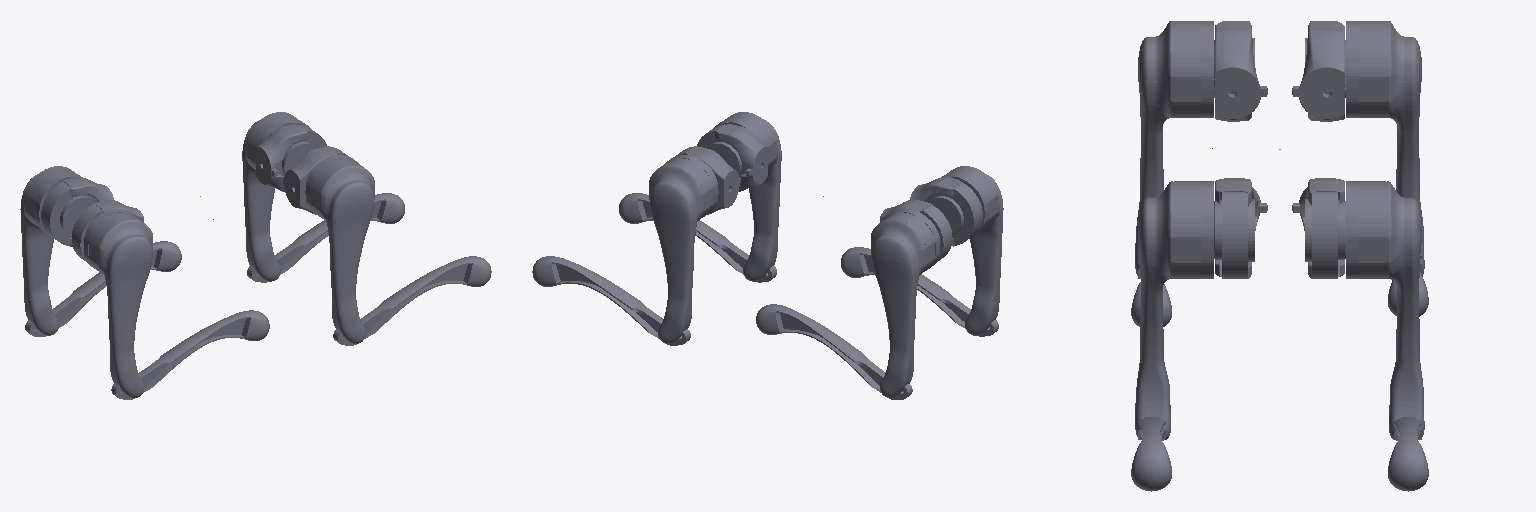
robot.urdf — go1_description:
<?xml version="1.0" ?>
<robot name="go1_description" xmlns:xacro="http://www.ros.org/wiki/xacro">
  <material name="black">
    <color rgba="0.0 0.0 0.0 1.0"/>
  </material>
  <material name="blue">
    <color rgba="0.0 0.0 0.8 1.0"/>
  </material>
  <material name="green">
    <color rgba="0.0 0.8 0.0 1.0"/>
  </material>
  <material name="grey">
    <color rgba="0.2 0.2 0.2 1.0"/>
  </material>
  <material name="silver">
    <color rgba="0.513725490196 0.513725490196 0.57058823529 1.0"/>
    <roughness value="0.1"/>
  </material>
  <material name="orange">
    <color rgba="1.0 0.423529411765 0.0392156862745 1.0"/>
  </material>
  <material name="brown">
    <color rgba="0.870588235294 0.811764705882 0.764705882353 1.0"/>
  </material>
  <material name="red">
    <color rgba="0.8 0.0 0.0 1.0"/>
  </material>
  <material name="white">
    <color rgba="1.0 1.0 1.0 1.0"/>
  </material>


  <link name="base">
    <visual>
      <origin rpy="0 0 0" xyz="0 0 0"/>
      <geometry>
        <box size="0.001 0.001 0.001"/>
      </geometry>
    </visual>
  </link>
  <joint name="floating_base" type="fixed">
    <origin rpy="0 0 0" xyz="0 0 0"/>
    <parent link="base"/>
    <child link="trunk"/>
  </joint>
  <link name="trunk">
    <visual>
      <origin rpy="0 0 0" xyz="0 0 0"/>
      <geometry>
        <mesh filename="../meshes/trunk.stl" scale="1 1 1"/>
      </geometry>
      <material name="silver"/>
    </visual>
    <collision>
      <origin rpy="0 0 0" xyz="0 0 0"/>
      <geometry>
        <box size="0.3762 0.0935 0.114"/>
      </geometry>
    </collision>
    <inertial>
      <origin rpy="0 0 0" xyz="0.011611 0.004437 0.000108"/>
      <mass value="4.8"/>
      <inertia ixx="0.016130741919" ixy="0.000593180607" ixz="7.324662e-06" iyy="0.036507810812" iyz="2.0969537e-05" izz="0.044693872053"/>
    </inertial>
  </link>
  <joint name="imu_joint" type="fixed">
    <parent link="trunk"/>
    <child link="imu_link"/>
    <origin rpy="0 0 0" xyz="-0.01592 -0.06659 -0.00617"/>
  </joint>
  <link name="imu_link">
    <inertial>
      <mass value="0.001"/>
      <origin rpy="0 0 0" xyz="0 0 0"/>
      <inertia ixx="0.0001" ixy="0" ixz="0" iyy="0.0001" iyz="0" izz="0.0001"/>
    </inertial>
    <visual>
      <origin rpy="0 0 0" xyz="0 0 0"/>
      <geometry>
        <box size="0.001 0.001 0.001"/>
      </geometry>
      <material name="red"/>
    </visual>
    <!-- <collision>
      <origin rpy="0 0 0" xyz="0 0 0"/>
      <geometry>
        <box size=".001 .001 .001"/>
      </geometry>
    </collision> -->
  </link>
  <joint name="FR_hip_joint" type="revolute">
    <origin rpy="0 0 0" xyz="0.1881 -0.04675 0"/>
    <parent link="trunk"/>
    <child link="FR_hip"/>
    <axis xyz="1 0 0"/>
    <dynamics damping="0" friction="0"/>
    <limit effort="33.5" lower="-0.802851455917" upper="0.802851455917" velocity="50"/>
  </joint>
  <link name="FR_hip">
    <visual>
      <origin rpy="3.14159265359 0 0" xyz="0 0 0"/>
      <geometry>
        <mesh filename="../meshes/hip.stl" scale="1 1 1"/>
      </geometry>
      <material name="silver"/>
    </visual>
    <collision>
      <origin rpy="1.57079632679 0 0" xyz="0 -0.045 0"/>
      <geometry>
        <cylinder length="0.04" radius="0.046"/>
      </geometry>
    </collision>
    <inertial>
      <origin rpy="0 0 0" xyz="-0.00541 0.00074 6e-06"/>
      <mass value="0.510299"/>
      <inertia ixx="0.00030528937" ixy="7.788013e-06" ixz="2.2016e-07" iyy="0.000590894859" iyz="1.7175e-08" izz="0.000396594572"/>
    </inertial>
  </link>
  <joint name="FR_hip_fixed" type="fixed">
    <origin rpy="0 0 0" xyz="0 -0.08 0"/>
    <parent link="FR_hip"/>
    <child link="FR_thigh_shoulder"/>
  </joint>
  <!-- this link is only for collision -->
  <link name="FR_thigh_shoulder">
    <!-- <collision>
      <origin rpy="1.57079632679 0 0" xyz="0 0 0"/>
      <geometry>
        <cylinder length="0.032" radius="0.041"/>
      </geometry>
    </collision> -->
  </link>
  <joint name="FR_thigh_joint" type="revolute">
    <origin rpy="0 0 0" xyz="0 -0.08 0"/>
    <parent link="FR_hip"/>
    <child link="FR_thigh"/>
    <axis xyz="0 1 0"/>
    <dynamics damping="0" friction="0"/>
    <limit effort="33.5" lower="-1.0471975512" upper="4.18879020479" velocity="28"/>
  </joint>
  <link name="FR_thigh">
    <visual>
      <origin rpy="0 0 0" xyz="0 0 0"/>
      <geometry>
        <mesh filename="../meshes/thigh_mirror.stl" scale="1 1 1"/>
      </geometry>
      <material name="silver"/>
    </visual>
    <collision>
      <origin rpy="0 1.57079632679 0" xyz="0 0 -0.1065"/>
      <geometry>
        <box size="0.213 0.0245 0.034"/>
      </geometry>
    </collision>
    <inertial>
      <origin rpy="0 0 0" xyz="-0.003468 0.018947 -0.032736"/>
      <mass value="0.898919"/>
      <inertia ixx="0.005395867678" ixy="-1.02809e-07" ixz="0.000337529085" iyy="0.005142451046" iyz="5.816563e-06" izz="0.00102478732"/>
    </inertial>
  </link>
  <joint name="FR_calf_joint" type="revolute">
    <origin rpy="0 0 0" xyz="0 0 -0.213"/>
    <parent link="FR_thigh"/>
    <child link="FR_calf"/>
    <axis xyz="0 1 0"/>
    <dynamics damping="0" friction="0"/>
    <limit effort="33.5" lower="-2.69653369433" upper="-0.916297857297" velocity="28"/>
  </joint>
  <link name="FR_calf">
    <visual>
      <origin rpy="0 0 0" xyz="0 0 0"/>
      <geometry>
        <mesh filename="../meshes/calf.stl" scale="1 1 1"/>
      </geometry>
      <material name="silver"/>
    </visual>
    <collision>
      <origin rpy="0 1.57079632679 0" xyz="0 0 -0.1065"/>
      <geometry>
        <box size="0.213 0.016 0.016"/>
      </geometry>
    </collision>
    <inertial>
      <origin rpy="0 0 0" xyz="0.006286 0.001307 -0.122269"/>
      <mass value="0.158015"/>
      <inertia ixx="0.003607648222" ixy="1.494971e-06" ixz="-0.000132778525" iyy="0.003626771492" iyz="-2.8638535e-05" izz="3.5148003e-05"/>
    </inertial>
  </link>
  <joint name="FR_foot_fixed" type="fixed" dont_collapse="true">
    <origin rpy="0 0 0" xyz="0 0 -0.213"/>
    <parent link="FR_calf"/>
    <child link="FR_foot"/>
  </joint>
  <link name="FR_foot">
    <visual>
      <origin rpy="0 0 0" xyz="0 0 0"/>
      <geometry>
        <sphere radius="0.01"/>
      </geometry>
      <material name="silver"/>
    </visual>
    <collision>
      <origin rpy="0 0 0" xyz="0 0 0"/>
      <geometry>
        <sphere radius="0.02"/>
      </geometry>
    </collision>
    <inertial>
      <mass value="0.06"/>
      <inertia ixx="9.6e-06" ixy="0.0" ixz="0.0" iyy="9.6e-06" iyz="0.0" izz="9.6e-06"/>
    </inertial>
  </link>

  <joint name="FL_hip_joint" type="revolute">
    <origin rpy="0 0 0" xyz="0.1881 0.04675 0"/>
    <parent link="trunk"/>
    <child link="FL_hip"/>
    <axis xyz="1 0 0"/>
    <dynamics damping="0" friction="0"/>
    <limit effort="33.5" lower="-0.802851455917" upper="0.802851455917" velocity="50"/>
  </joint>
  <link name="FL_hip">
    <visual>
      <origin rpy="0 0 0" xyz="0 0 0"/>
      <geometry>
        <mesh filename="../meshes/hip.stl" scale="1 1 1"/>
      </geometry>
      <material name="silver"/>
    </visual>
    <collision>
      <origin rpy="1.57079632679 0 0" xyz="0 0.045 0"/>
      <geometry>
        <cylinder length="0.04" radius="0.046"/>
      </geometry>
    </collision>
    <inertial>
      <origin rpy="0 0 0" xyz="-0.00541 -0.00074 6e-06"/>
      <mass value="0.510299"/>
      <inertia ixx="0.00030528937" ixy="-7.788013e-06" ixz="2.2016e-07" iyy="0.000590894859" iyz="-1.7175e-08" izz="0.000396594572"/>
    </inertial>
  </link>
  <joint name="FL_hip_fixed" type="fixed">
    <origin rpy="0 0 0" xyz="0 0.08 0"/>
    <parent link="FL_hip"/>
    <child link="FL_thigh_shoulder"/>
  </joint>
  <!-- this link is only for collision -->
  <link name="FL_thigh_shoulder">
    <!-- <collision>
      <origin rpy="1.57079632679 0 0" xyz="0 0 0"/>
      <geometry>
        <cylinder length="0.032" radius="0.041"/>
      </geometry>
    </collision>  -->
  </link>
  <joint name="FL_thigh_joint" type="revolute">
    <origin rpy="0 0 0" xyz="0 0.08 0"/>
    <parent link="FL_hip"/>
    <child link="FL_thigh"/>
    <axis xyz="0 1 0"/>
    <dynamics damping="0" friction="0"/>
    <limit effort="33.5" lower="-1.0471975512" upper="4.18879020479" velocity="28"/>
  </joint>
  <link name="FL_thigh">
    <visual>
      <origin rpy="0 0 0" xyz="0 0 0"/>
      <geometry>
        <mesh filename="../meshes/thigh.stl" scale="1 1 1"/>
      </geometry>
      <material name="silver"/>
    </visual>
    <collision>
      <origin rpy="0 1.57079632679 0" xyz="0 0 -0.1065"/>
      <geometry>
        <box size="0.213 0.0245 0.034"/>
      </geometry>
    </collision>
    <inertial>
      <origin rpy="0 0 0" xyz="-0.003468 -0.018947 -0.032736"/>
      <mass value="0.898919"/>
      <inertia ixx="0.005395867678" ixy="1.02809e-07" ixz="0.000337529085" iyy="0.005142451046" iyz="-5.816563e-06" izz="0.00102478732"/>
    </inertial>
  </link>
  <joint name="FL_calf_joint" type="revolute">
    <origin rpy="0 0 0" xyz="0 0 -0.213"/>
    <parent link="FL_thigh"/>
    <child link="FL_calf"/>
    <axis xyz="0 1 0"/>
    <dynamics damping="0" friction="0"/>
    <limit effort="33.5" lower="-2.69653369433" upper="-0.916297857297" velocity="28"/>
  </joint>
  <link name="FL_calf">
    <visual>
      <origin rpy="0 0 0" xyz="0 0 0"/>
      <geometry>
        <mesh filename="../meshes/calf.stl" scale="1 1 1"/>
      </geometry>
      <material name="silver"/>
    </visual>
    <collision>
      <origin rpy="0 1.57079632679 0" xyz="0 0 -0.1065"/>
      <geometry>
        <box size="0.213 0.016 0.016"/>
      </geometry>
    </collision>
    <inertial>
      <origin rpy="0 0 0" xyz="0.006286 0.001307 -0.122269"/>
      <mass value="0.158015"/>
      <inertia ixx="0.003607648222" ixy="1.494971e-06" ixz="-0.000132778525" iyy="0.003626771492" iyz="-2.8638535e-05" izz="3.5148003e-05"/>
    </inertial>
  </link>
  <joint name="FL_foot_fixed" type="fixed" dont_collapse="true">
    <origin rpy="0 0 0" xyz="0 0 -0.213"/>
    <parent link="FL_calf"/>
    <child link="FL_foot"/>
  </joint>
  <link name="FL_foot">
    <visual>
      <origin rpy="0 0 0" xyz="0 0 0"/>
      <geometry>
        <sphere radius="0.01"/>
      </geometry>
      <material name="silver"/>
    </visual>
    <collision>
      <origin rpy="0 0 0" xyz="0 0 0"/>
      <geometry>
        <sphere radius="0.02"/>
      </geometry>
    </collision>
    <inertial>
      <mass value="0.06"/>
      <inertia ixx="9.6e-06" ixy="0.0" ixz="0.0" iyy="9.6e-06" iyz="0.0" izz="9.6e-06"/>
    </inertial>
  </link>

  <joint name="RR_hip_joint" type="revolute">
    <origin rpy="0 0 0" xyz="-0.1881 -0.04675 0"/>
    <parent link="trunk"/>
    <child link="RR_hip"/>
    <axis xyz="1 0 0"/>
    <dynamics damping="0" friction="0"/>
    <limit effort="33.5" lower="-0.802851455917" upper="0.802851455917" velocity="50"/>
  </joint>
  <link name="RR_hip">
    <visual>
      <origin rpy="3.14159265359 3.14159265359 0" xyz="0 0 0"/>
      <geometry>
        <mesh filename="../meshes/hip.stl" scale="1 1 1"/>
      </geometry>
      <material name="silver"/>
    </visual>
    <collision>
      <origin rpy="1.57079632679 0 0" xyz="0 -0.045 0"/>
      <geometry>
        <cylinder length="0.04" radius="0.046"/>
      </geometry>
    </collision>
    <inertial>
      <origin rpy="0 0 0" xyz="0.00541 0.00074 6e-06"/>
      <mass value="0.510299"/>
      <inertia ixx="0.00030528937" ixy="-7.788013e-06" ixz="-2.2016e-07" iyy="0.000590894859" iyz="1.7175e-08" izz="0.000396594572"/>
    </inertial>
  </link>
  <joint name="RR_hip_fixed" type="fixed">
    <origin rpy="0 0 0" xyz="0 -0.08 0"/>
    <parent link="RR_hip"/>
    <child link="RR_thigh_shoulder"/>
  </joint>
  <!-- this link is only for collision -->
  <link name="RR_thigh_shoulder">
    <!-- <collision>
      <origin rpy="1.57079632679 0 0" xyz="0 0 0"/>
      <geometry>
        <cylinder length="0.032" radius="0.041"/>
      </geometry>
    </collision> -->
  </link>
  <joint name="RR_thigh_joint" type="revolute">
    <origin rpy="0 0 0" xyz="0 -0.08 0"/>
    <parent link="RR_hip"/>
    <child link="RR_thigh"/>
    <axis xyz="0 1 0"/>
    <dynamics damping="0" friction="0"/>
    <limit effort="33.5" lower="-1.0471975512" upper="4.18879020479" velocity="28"/>
  </joint>
  <link name="RR_thigh">
    <visual>
      <origin rpy="0 0 0" xyz="0 0 0"/>
      <geometry>
        <mesh filename="../meshes/thigh_mirror.stl" scale="1 1 1"/>
      </geometry>
      <material name="silver"/>
    </visual>
    <collision>
      <origin rpy="0 1.57079632679 0" xyz="0 0 -0.1065"/>
      <geometry>
        <box size="0.213 0.0245 0.034"/>
      </geometry>
    </collision>
    <inertial>
      <origin rpy="0 0 0" xyz="-0.003468 0.018947 -0.032736"/>
      <mass value="0.898919"/>
      <inertia ixx="0.005395867678" ixy="-1.02809e-07" ixz="0.000337529085" iyy="0.005142451046" iyz="5.816563e-06" izz="0.00102478732"/>
    </inertial>
  </link>
  <joint name="RR_calf_joint" type="revolute">
    <origin rpy="0 0 0" xyz="0 0 -0.213"/>
    <parent link="RR_thigh"/>
    <child link="RR_calf"/>
    <axis xyz="0 1 0"/>
    <dynamics damping="0" friction="0"/>
    <limit effort="33.5" lower="-2.69653369433" upper="-0.916297857297" velocity="28"/>
  </joint>
  <link name="RR_calf">
    <visual>
      <origin rpy="0 0 0" xyz="0 0 0"/>
      <geometry>
        <mesh filename="../meshes/calf.stl" scale="1 1 1"/>
      </geometry>
      <material name="silver"/>
    </visual>
    <collision>
      <origin rpy="0 1.57079632679 0" xyz="0 0 -0.1065"/>
      <geometry>
        <box size="0.213 0.016 0.016"/>
      </geometry>
    </collision>
    <inertial>
      <origin rpy="0 0 0" xyz="0.006286 0.001307 -0.122269"/>
      <mass value="0.158015"/>
      <inertia ixx="0.003607648222" ixy="1.494971e-06" ixz="-0.000132778525" iyy="0.003626771492" iyz="-2.8638535e-05" izz="3.5148003e-05"/>
    </inertial>
  </link>
  <joint name="RR_foot_fixed" type="fixed" dont_collapse="true">
    <origin rpy="0 0 0" xyz="0 0 -0.213"/>
    <parent link="RR_calf"/>
    <child link="RR_foot"/>
  </joint>
  <link name="RR_foot">
    <visual>
      <origin rpy="0 0 0" xyz="0 0 0"/>
      <geometry>
        <sphere radius="0.01"/>
      </geometry>
      <material name="silver"/>
    </visual>
    <collision>
      <origin rpy="0 0 0" xyz="0 0 0"/>
      <geometry>
        <sphere radius="0.02"/>
      </geometry>
    </collision>
    <inertial>
      <mass value="0.06"/>
      <inertia ixx="9.6e-06" ixy="0.0" ixz="0.0" iyy="9.6e-06" iyz="0.0" izz="9.6e-06"/>
    </inertial>
  </link>

  <joint name="RL_hip_joint" type="revolute">
    <origin rpy="0 0 0" xyz="-0.1881 0.04675 0"/>
    <parent link="trunk"/>
    <child link="RL_hip"/>
    <axis xyz="1 0 0"/>
    <dynamics damping="0" friction="0"/>
    <limit effort="33.5" lower="-0.802851455917" upper="0.802851455917" velocity="50"/>
  </joint>
  <link name="RL_hip">
    <visual>
      <origin rpy="0 3.14159265359 0" xyz="0 0 0"/>
      <geometry>
        <mesh filename="../meshes/hip.stl" scale="1 1 1"/>
      </geometry>
      <material name="silver"/>
    </visual>
    <collision>
      <origin rpy="1.57079632679 0 0" xyz="0 0.045 0"/>
      <geometry>
        <cylinder length="0.04" radius="0.046"/>
      </geometry>
    </collision>
    <inertial>
      <origin rpy="0 0 0" xyz="0.00541 -0.00074 6e-06"/>
      <mass value="0.510299"/>
      <inertia ixx="0.00030528937" ixy="7.788013e-06" ixz="-2.2016e-07" iyy="0.000590894859" iyz="-1.7175e-08" izz="0.000396594572"/>
    </inertial>
  </link>
  <joint name="RL_hip_fixed" type="fixed">
    <origin rpy="0 0 0" xyz="0 0.08 0"/>
    <parent link="RL_hip"/>
    <child link="RL_thigh_shoulder"/>
  </joint>
  <!-- this link is only for collision -->
  <link name="RL_thigh_shoulder">
    <!-- <collision>
      <origin rpy="1.57079632679 0 0" xyz="0 0 0"/>
      <geometry>
        <cylinder length="0.032" radius="0.041"/>
      </geometry>
    </collision> -->
  </link>
  <joint name="RL_thigh_joint" type="revolute">
    <origin rpy="0 0 0" xyz="0 0.08 0"/>
    <parent link="RL_hip"/>
    <child link="RL_thigh"/>
    <axis xyz="0 1 0"/>
    <dynamics damping="0" friction="0"/>
    <limit effort="33.5" lower="-1.0471975512" upper="4.18879020479" velocity="28"/>
  </joint>
  <link name="RL_thigh">
    <visual>
      <origin rpy="0 0 0" xyz="0 0 0"/>
      <geometry>
        <mesh filename="../meshes/thigh.stl" scale="1 1 1"/>
      </geometry>
      <material name="silver"/>
    </visual>
    <collision>
      <origin rpy="0 1.57079632679 0" xyz="0 0 -0.1065"/>
      <geometry>
        <box size="0.213 0.0245 0.034"/>
      </geometry>
    </collision>
    <inertial>
      <origin rpy="0 0 0" xyz="-0.003468 -0.018947 -0.032736"/>
      <mass value="0.898919"/>
      <inertia ixx="0.005395867678" ixy="1.02809e-07" ixz="0.000337529085" iyy="0.005142451046" iyz="-5.816563e-06" izz="0.00102478732"/>
    </inertial>
  </link>
  <joint name="RL_calf_joint" type="revolute">
    <origin rpy="0 0 0" xyz="0 0 -0.213"/>
    <parent link="RL_thigh"/>
    <child link="RL_calf"/>
    <axis xyz="0 1 0"/>
    <dynamics damping="0" friction="0"/>
    <limit effort="33.5" lower="-2.8" upper="-0.916297857297" velocity="28"/>
  </joint>
  <link name="RL_calf">
    <visual>
      <origin rpy="0 0 0" xyz="0 0 0"/>
      <geometry>
        <mesh filename="../meshes/calf.stl" scale="1 1 1"/>
      </geometry>
      <material name="silver"/>
    </visual>
    <collision>
      <origin rpy="0 1.57079632679 0" xyz="0 0 -0.1065"/>
      <geometry>
        <box size="0.213 0.016 0.016"/>
      </geometry>
    </collision>
    <inertial>
      <origin rpy="0 0 0" xyz="0.006286 0.001307 -0.122269"/>
      <mass value="0.158015"/>
      <inertia ixx="0.003607648222" ixy="1.494971e-06" ixz="-0.000132778525" iyy="0.003626771492" iyz="-2.8638535e-05" izz="3.5148003e-05"/>
    </inertial>
  </link>
  <joint name="RL_foot_fixed" type="fixed" dont_collapse="true">
    <origin rpy="0 0 0" xyz="0 0 -0.213"/>
    <parent link="RL_calf"/>
    <child link="RL_foot"/>
  </joint>
  <link name="RL_foot">
    <visual>
      <origin rpy="0 0 0" xyz="0 0 0"/>
      <geometry>
        <sphere radius="0.01"/>
      </geometry>
      <material name="silver"/>
    </visual>
    <collision>
      <origin rpy="0 0 0" xyz="0 0 0"/>
      <geometry>
        <sphere radius="0.02"/>
      </geometry>
    </collision>
    <inertial>
      <mass value="0.06"/>
      <inertia ixx="9.6e-06" ixy="0.0" ixz="0.0" iyy="9.6e-06" iyz="0.0" izz="9.6e-06"/>
    </inertial>
  </link>
 </robot>

--- Render facts (derived) ---
Views: 3 orthographic renders of the robot side by side, from view 1: azimuth 30°, elevation 25°; view 2: azimuth 150°, elevation 25°; view 3: azimuth 270°, elevation 25°.
Robot: go1_description — 23 links, 22 joints (12 revolute, 10 fixed); root link base; default pose: joints at zero except 4 at the middle of their limits (FR_calf_joint = -1.81, FL_calf_joint = -1.81, RR_calf_joint = -1.81, RL_calf_joint = -1.86).
Links seen in each view (by area): view 1: FR_thigh, RR_thigh, RL_thigh, FL_thigh, FR_calf, RR_calf, RL_hip, FL_hip, FL_calf, RL_calf, FR_hip, RR_hip; view 2: FL_thigh, RL_thigh, RR_thigh, FR_thigh, RL_calf, FL_calf, FR_hip, RR_hip, RR_calf, FR_calf, FL_hip, RL_hip; view 3: FR_thigh, FL_thigh, RR_thigh, RL_thigh, FR_hip, FL_hip, RR_hip, RL_hip, FR_calf, FL_calf, RR_calf, RL_calf.
Link boxes in pixels (box(x1,y1,x2,y2)): FR_thigh: box(305, 155, 374, 343); RR_thigh: box(84, 209, 152, 397); RL_thigh: box(20, 166, 82, 335); FL_thigh: box(242, 112, 309, 281); FR_calf: box(333, 256, 491, 345); RR_calf: box(111, 310, 269, 399); RL_hip: box(41, 177, 113, 246); FL_hip: box(256, 124, 326, 192); FL_calf: box(247, 193, 404, 282); RL_calf: box(25, 241, 181, 336); FR_hip: box(283, 146, 347, 214); RR_hip: box(72, 200, 143, 263); FL_thigh: box(649, 155, 718, 343); RL_thigh: box(871, 209, 939, 397); RR_thigh: box(941, 166, 1003, 335); FR_thigh: box(714, 112, 781, 281); RL_calf: box(756, 304, 912, 399); FL_calf: box(532, 256, 690, 345); FR_hip: box(697, 124, 767, 191); RR_hip: box(910, 177, 982, 246); RR_calf: box(841, 247, 998, 336); FR_calf: box(619, 193, 776, 282); FL_hip: box(676, 146, 740, 214); RL_hip: box(880, 200, 951, 263); FR_thigh: box(1135, 181, 1213, 440); FL_thigh: box(1346, 181, 1424, 440); RR_thigh: box(1135, 21, 1213, 275); RL_thigh: box(1346, 21, 1424, 275); FR_hip: box(1214, 178, 1267, 278); FL_hip: box(1292, 178, 1345, 278); RR_hip: box(1214, 21, 1267, 121); RL_hip: box(1292, 21, 1345, 121); FR_calf: box(1131, 417, 1171, 491); FL_calf: box(1388, 417, 1428, 491); RR_calf: box(1131, 260, 1171, 326); RL_calf: box(1388, 256, 1428, 316).
Bounding box of the posed robot: 0.6536 × 0.294 × 0.2796 m (x, y, z).
12 mesh visuals loaded from 5 distinct referenced files (4 binary STL); not drawn: 1 (reference not matched to a file when rendering).